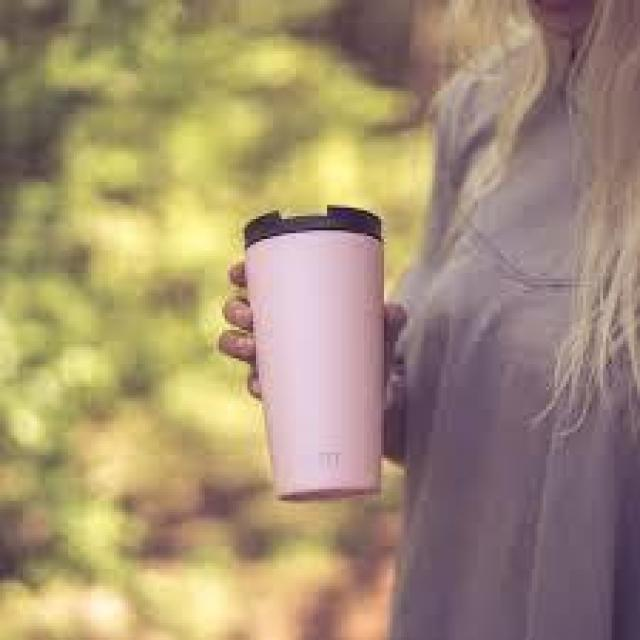bottle: (239, 212, 384, 499)
